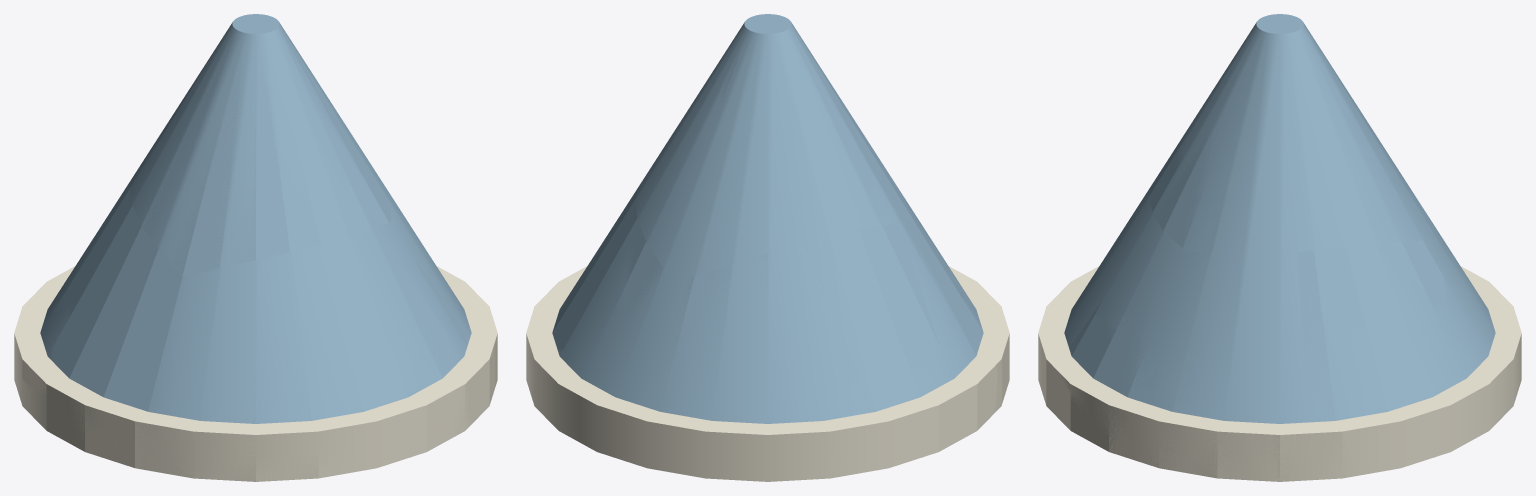
Rendered from towerTopRoof.fbx.
The picture shows the model from 3 angles, left to right: view 1: azimuth 30°, elevation 25°; view 2: azimuth 150°, elevation 25°; view 3: azimuth 270°, elevation 25°; orthographic projection.
Parts seen in each view (by area): view 1: towerTopRoof, towerTopRoof_cell.004, towerTopRoof_cell.007, towerTopRoof_cell, towerTopRoof_cell.006, towerTopRoof_cell.005, towerTopRoof_cell.002; view 2: towerTopRoof, towerTopRoof_cell.004, towerTopRoof_cell.003, towerTopRoof_cell.007, towerTopRoof_cell; view 3: towerTopRoof, towerTopRoof_cell.003, towerTopRoof_cell.006, towerTopRoof_cell.002, towerTopRoof_cell.007, towerTopRoof_cell.005, towerTopRoof_cell, towerTopRoof_cell.001.
Part boxes in pixels (box(x1,y1,x2,y2)): towerTopRoof: box(14, 14, 497, 481); towerTopRoof_cell.004: box(14, 178, 182, 467); towerTopRoof_cell.007: box(140, 28, 388, 275); towerTopRoof_cell: box(135, 287, 398, 481); towerTopRoof_cell.006: box(373, 230, 492, 460); towerTopRoof_cell.005: box(279, 26, 390, 222); towerTopRoof_cell.002: box(411, 254, 495, 349); towerTopRoof: box(526, 14, 1009, 481); towerTopRoof_cell.004: box(671, 222, 1009, 476); towerTopRoof_cell.003: box(526, 183, 662, 412); towerTopRoof_cell.007: box(781, 23, 914, 225); towerTopRoof_cell: box(909, 209, 1006, 332); towerTopRoof: box(1038, 14, 1521, 481); towerTopRoof_cell.003: box(1297, 240, 1484, 480); towerTopRoof_cell.006: box(1042, 285, 1164, 458); towerTopRoof_cell.002: box(1131, 252, 1311, 481); towerTopRoof_cell.007: box(1149, 116, 1224, 247); towerTopRoof_cell.005: box(1183, 60, 1254, 252); towerTopRoof_cell: box(1038, 266, 1099, 347); towerTopRoof_cell.001: box(1288, 30, 1353, 122).
Size of the model in its own units: 1121 by 910 by 1121.
